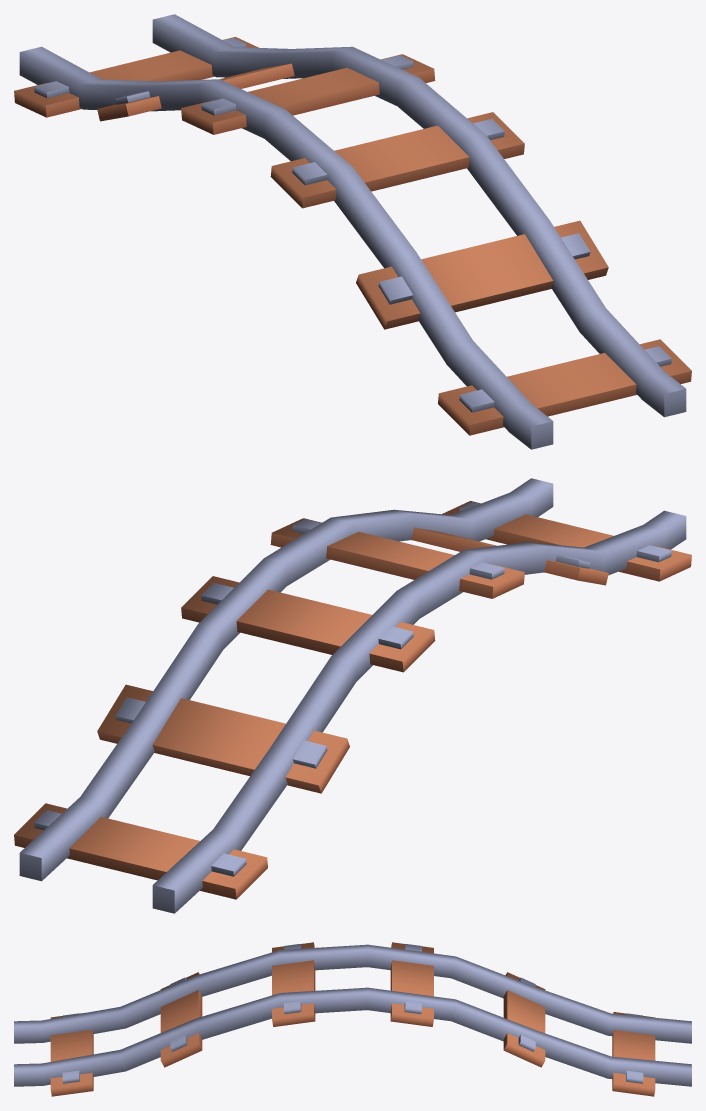
Rendered from railroad-straight-bump-up.glb.
The picture shows the model from 3 angles, top to bottom: view 1: azimuth 30°, elevation 25°; view 2: azimuth 150°, elevation 25°; view 3: azimuth 270°, elevation 25°; orthographic projection. The views are drawn at different scales.
Parts seen in each view (by area): view 1: railroad-straight-bump-up; view 2: railroad-straight-bump-up; view 3: railroad-straight-bump-up.
Boxes of the visible parts, x1,y1,x2,y2 form: railroad-straight-bump-up: (14, 14, 691, 449); railroad-straight-bump-up: (14, 478, 691, 913); railroad-straight-bump-up: (14, 942, 691, 1096).
Bounding box in the file's own units: 1 × 0.5987 × 4.
